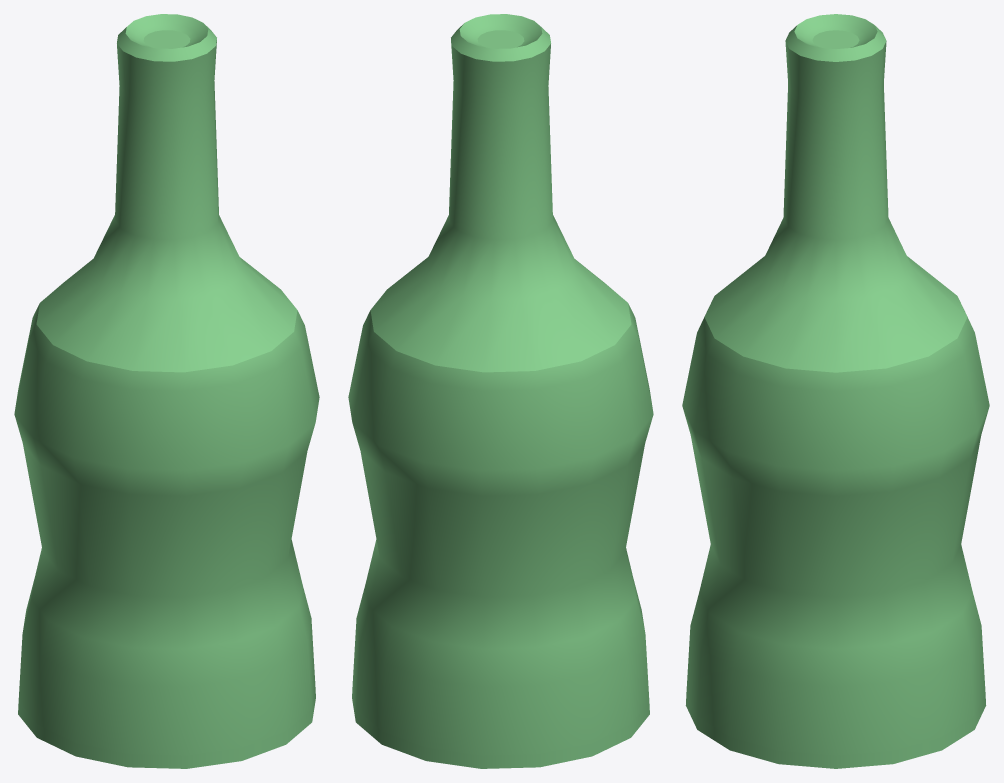
File: sm_vase.fbx
3 renders of one model, left to right at view 1: azimuth 30°, elevation 25°; view 2: azimuth 150°, elevation 25°; view 3: azimuth 270°, elevation 25°, orthographic.
Visible parts, largest first — view 1: sm_vase; view 2: sm_vase; view 3: sm_vase.
Part boxes in pixels (<box>): sm_vase: <box>14,14,319,768</box>; sm_vase: <box>348,14,653,768</box>; sm_vase: <box>682,14,989,768</box>.
Bounding box in the file's own units: 0.2834 × 0.6852 × 0.2834.
